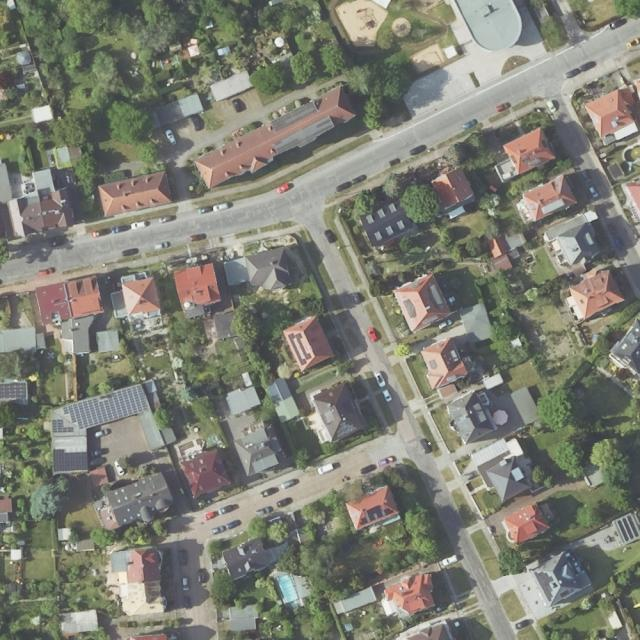PV: (63, 384, 148, 430), (360, 505, 396, 526), (53, 449, 87, 471), (534, 571, 555, 602), (0, 384, 26, 399), (53, 419, 73, 434)
ST: (560, 590, 569, 598)
